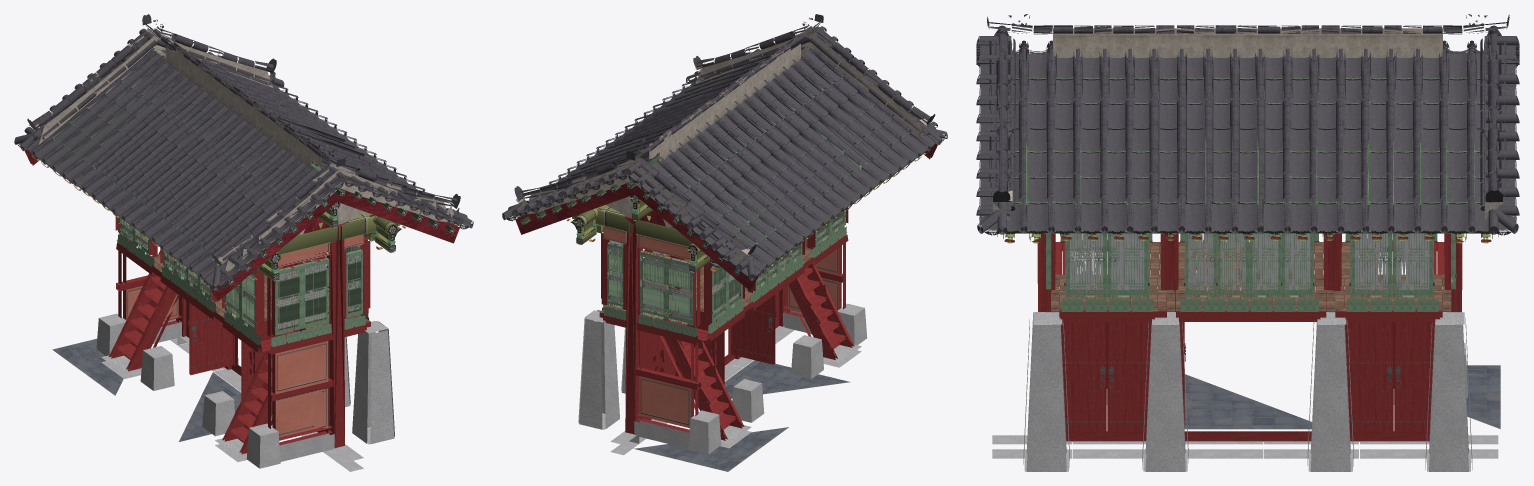
Rendered from gyeongryong.glb.
3 renders of one model, left to right at view 1: azimuth 30°, elevation 25°; view 2: azimuth 150°, elevation 25°; view 3: azimuth 270°, elevation 25°, orthographic. The views are drawn at different scales.
Visible parts, largest first — view 1: SM_Gyeongryugwan, SM_Gyeongryugwan_MI_R_Roof1_0.001, SM_Gyeongryugwan_MI_R_Roof1_0.002, SM_Gyeongryugwan_MI_R_Roof1_0.003, SM_Gyeongryugwan_MI_KoreanWood_5.001_0.001; view 2: SM_Gyeongryugwan, SM_Gyeongryugwan_MI_R_Roof1_0.001, SM_Gyeongryugwan_MI_R_Roof1_0.002, SM_Gyeongryugwan_MI_R_Roof1_0.003, SM_Gyeongryugwan_MI_KoreanWood_5.001_0.001; view 3: SM_Gyeongryugwan, SM_Gyeongryugwan_MI_R_Roof1_0.002, SM_Gyeongryugwan_MI_R_Roof1_0.001, SM_Gyeongryugwan_MI_KoreanWood_5.001_0.001, SM_Gyeongryugwan_MI_R_Roof1_0.003.
Part boxes in pixels (bbox=[...]): SM_Gyeongryugwan: bbox=[17, 17, 468, 471]; SM_Gyeongryugwan_MI_R_Roof1_0.001: bbox=[18, 34, 473, 290]; SM_Gyeongryugwan_MI_R_Roof1_0.002: bbox=[14, 19, 460, 285]; SM_Gyeongryugwan_MI_R_Roof1_0.003: bbox=[19, 14, 465, 286]; SM_Gyeongryugwan_MI_KoreanWood_5.001_0.001: bbox=[175, 244, 368, 318]; SM_Gyeongryugwan: bbox=[506, 15, 944, 471]; SM_Gyeongryugwan_MI_R_Roof1_0.001: bbox=[502, 17, 947, 277]; SM_Gyeongryugwan_MI_R_Roof1_0.002: bbox=[502, 14, 943, 280]; SM_Gyeongryugwan_MI_R_Roof1_0.003: bbox=[509, 20, 943, 276]; SM_Gyeongryugwan_MI_KoreanWood_5.001_0.001: bbox=[603, 210, 802, 308]; SM_Gyeongryugwan: bbox=[979, 18, 1516, 471]; SM_Gyeongryugwan_MI_R_Roof1_0.002: bbox=[980, 14, 1519, 234]; SM_Gyeongryugwan_MI_R_Roof1_0.001: bbox=[976, 14, 1519, 234]; SM_Gyeongryugwan_MI_KoreanWood_5.001_0.001: bbox=[1062, 233, 1438, 311]; SM_Gyeongryugwan_MI_R_Roof1_0.003: bbox=[979, 14, 1516, 232].
Size of the model in its own units: 8.24 by 9.65 by 11.08.
Materials: 18 (17 with a texture image).
